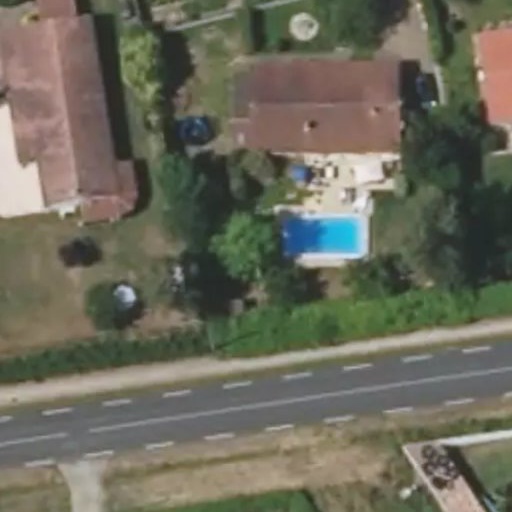pool: (214, 223, 297, 260)
